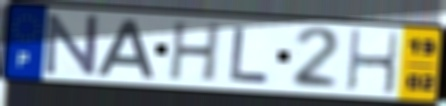2: (292, 24, 344, 91)
A: (93, 17, 157, 80)
H: (345, 28, 401, 97), (166, 20, 225, 85)
L: (228, 24, 273, 84)
N: (43, 13, 100, 77)
